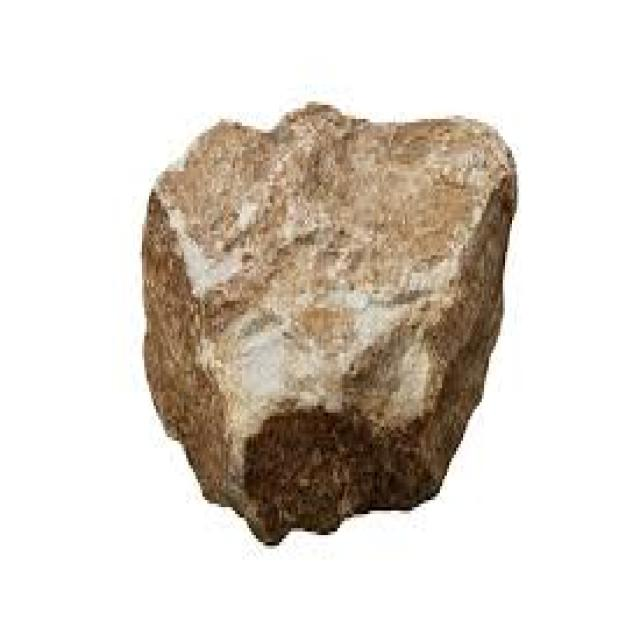Metamorphic: (149, 94, 514, 538)
